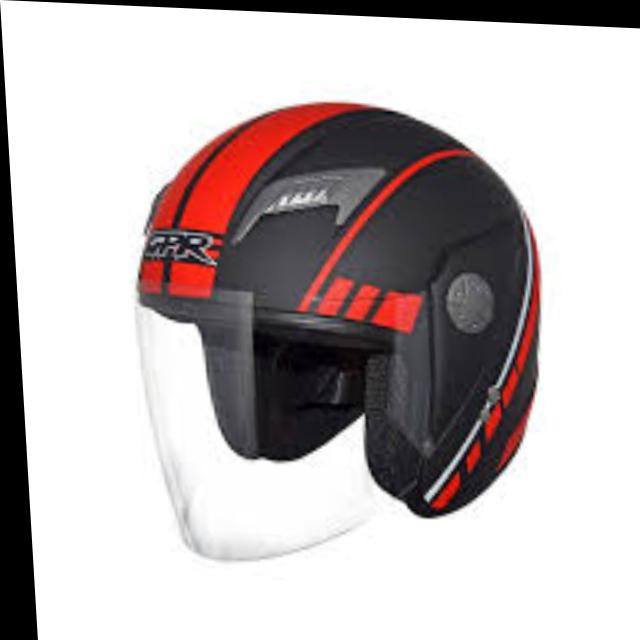motorcycle-helmets: (138, 104, 536, 554)
